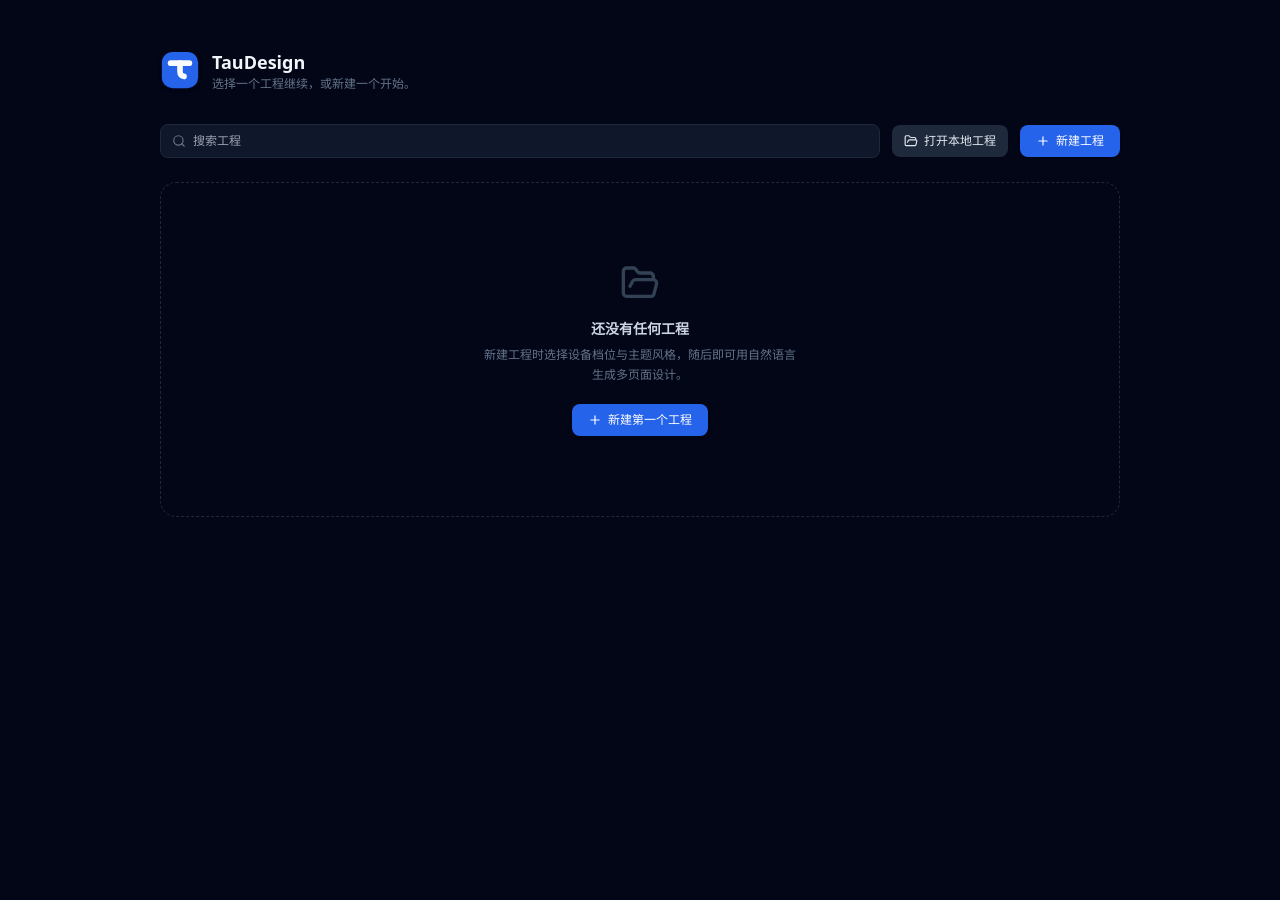
Test: 折叠面板展开状态随工程持久化 (PRD §3.0.3) › 折叠后状态写入 store 并落盘
Click the button "新建第一个工程": (640, 420) x1=572 y1=404 x2=708 y2=436
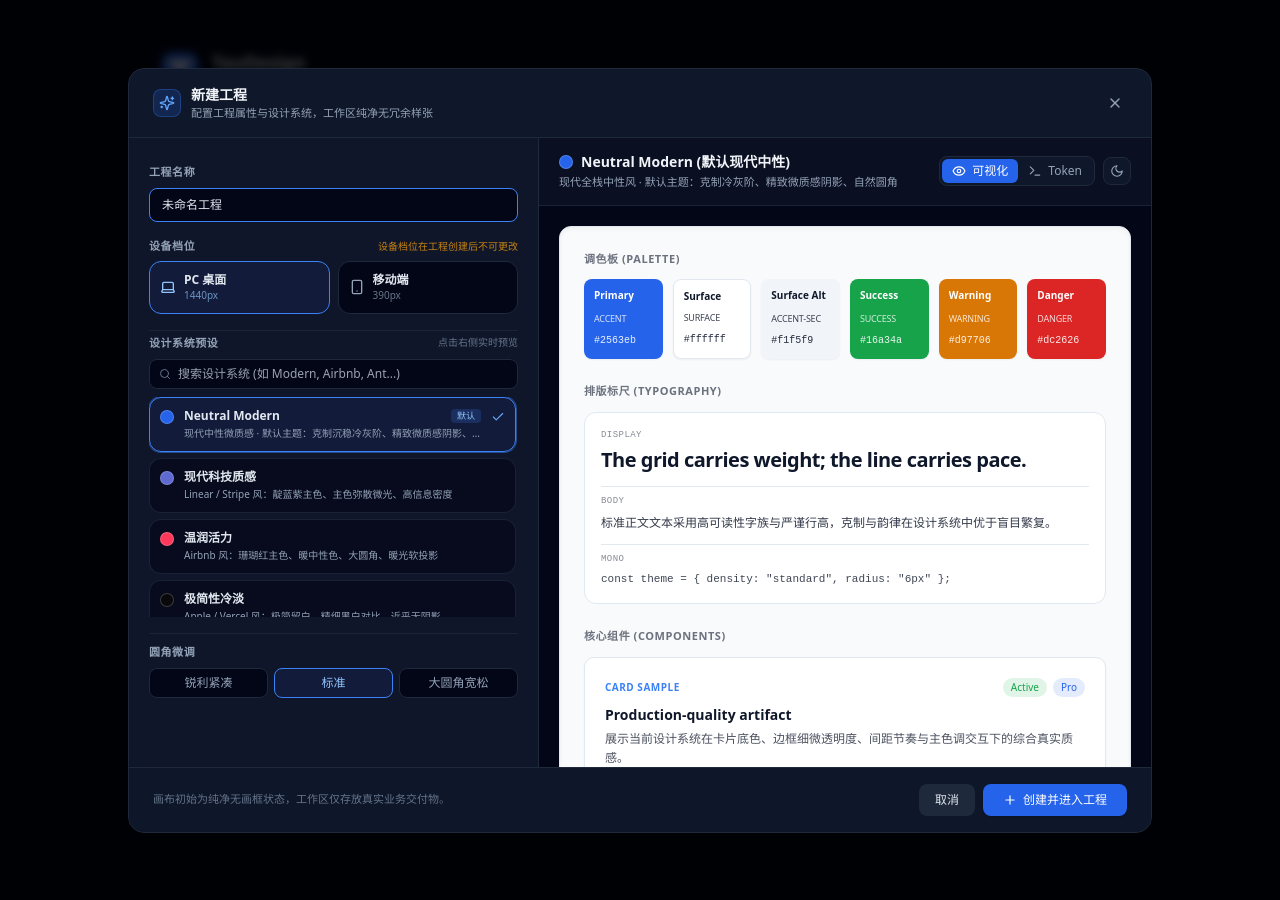
Expected: the button "创建并进入工程" is shown
Click the button "创建并进入工程": (1055, 800) x1=983 y1=784 x2=1127 y2=816
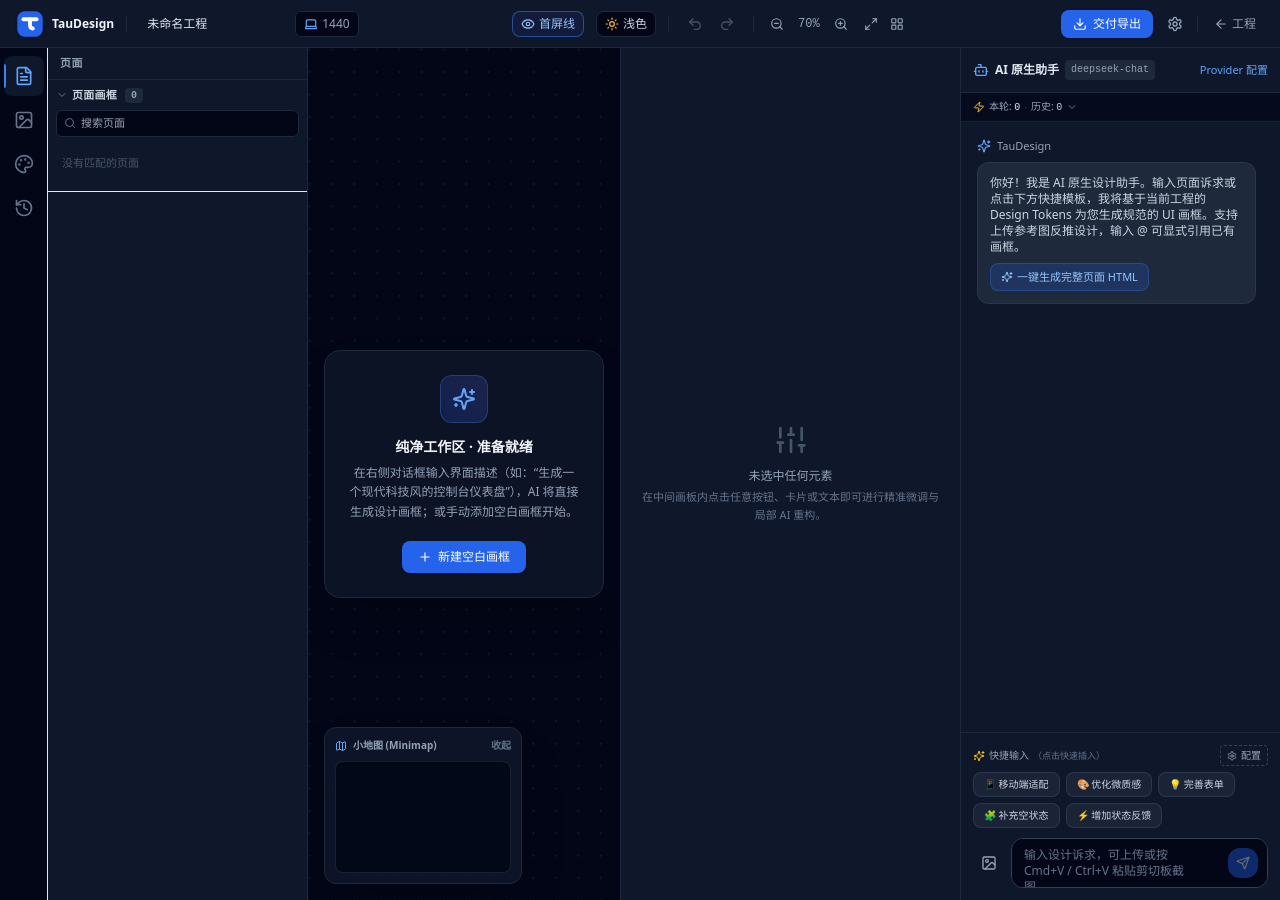
Click the button named "设计系统": (24, 164) x1=4 y1=144 x2=44 y2=184
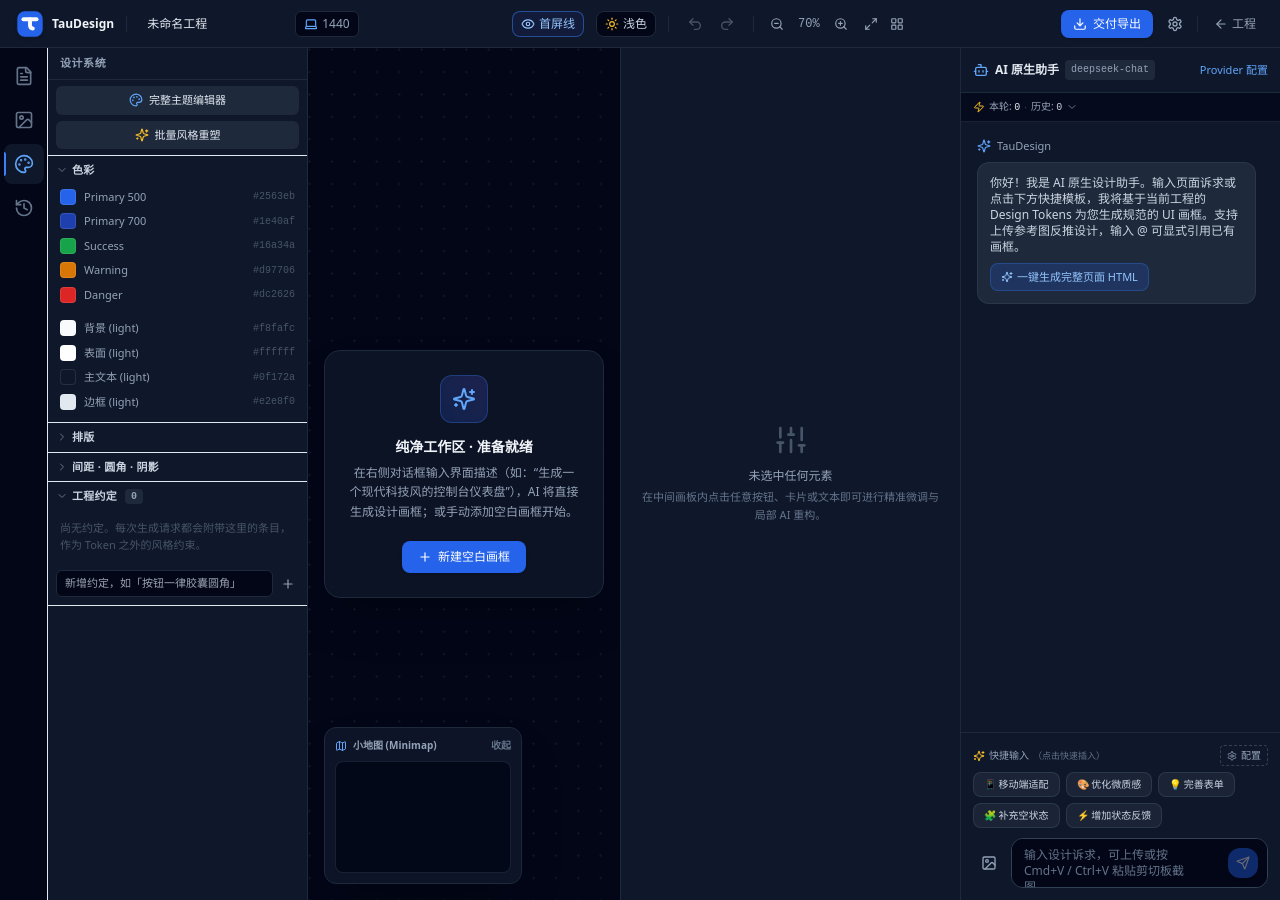
Expected: the button "色彩" is shown
Click the button "色彩": (178, 170) x1=56 y1=162 x2=299 y2=178
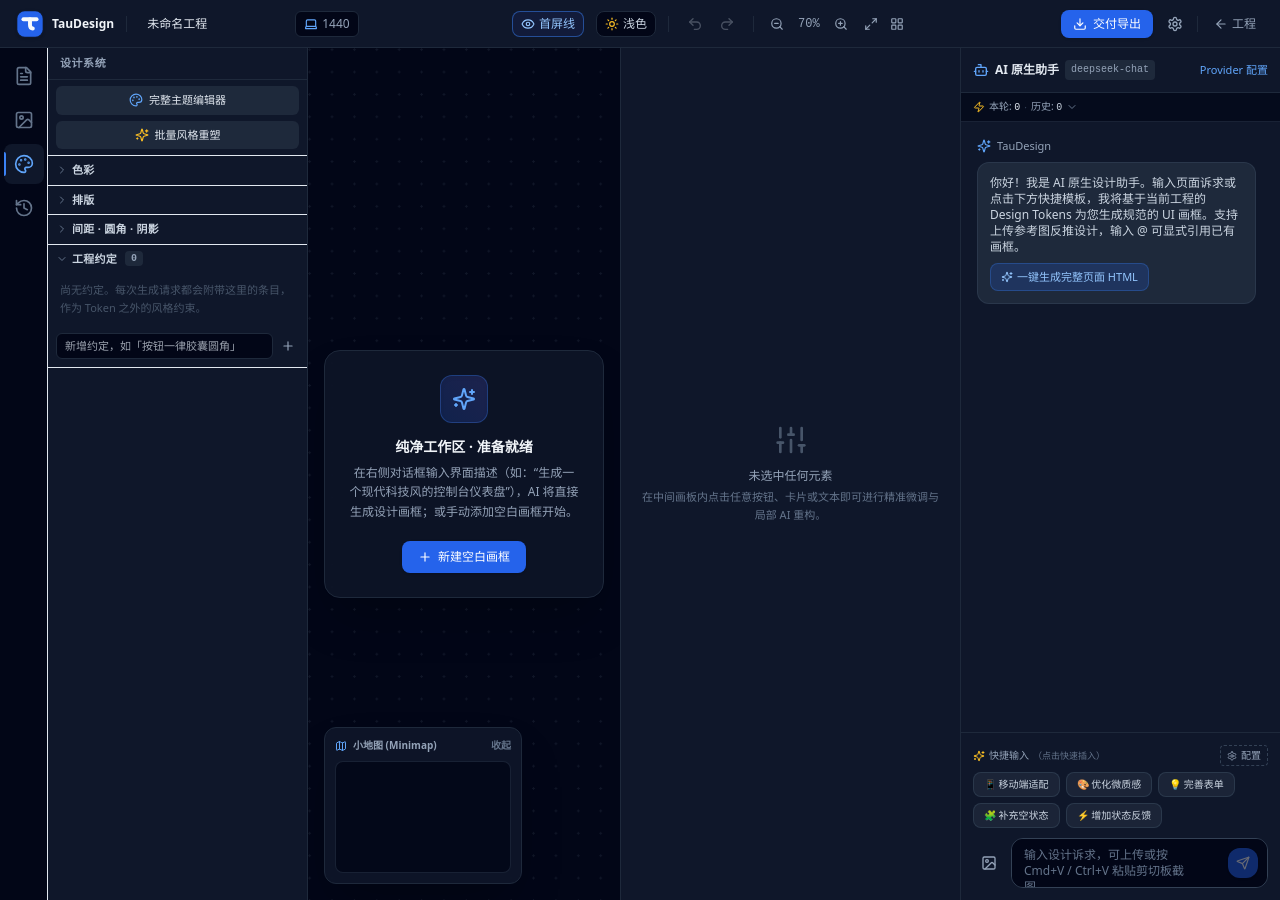
Expected: the text "Primary 500" is gone
